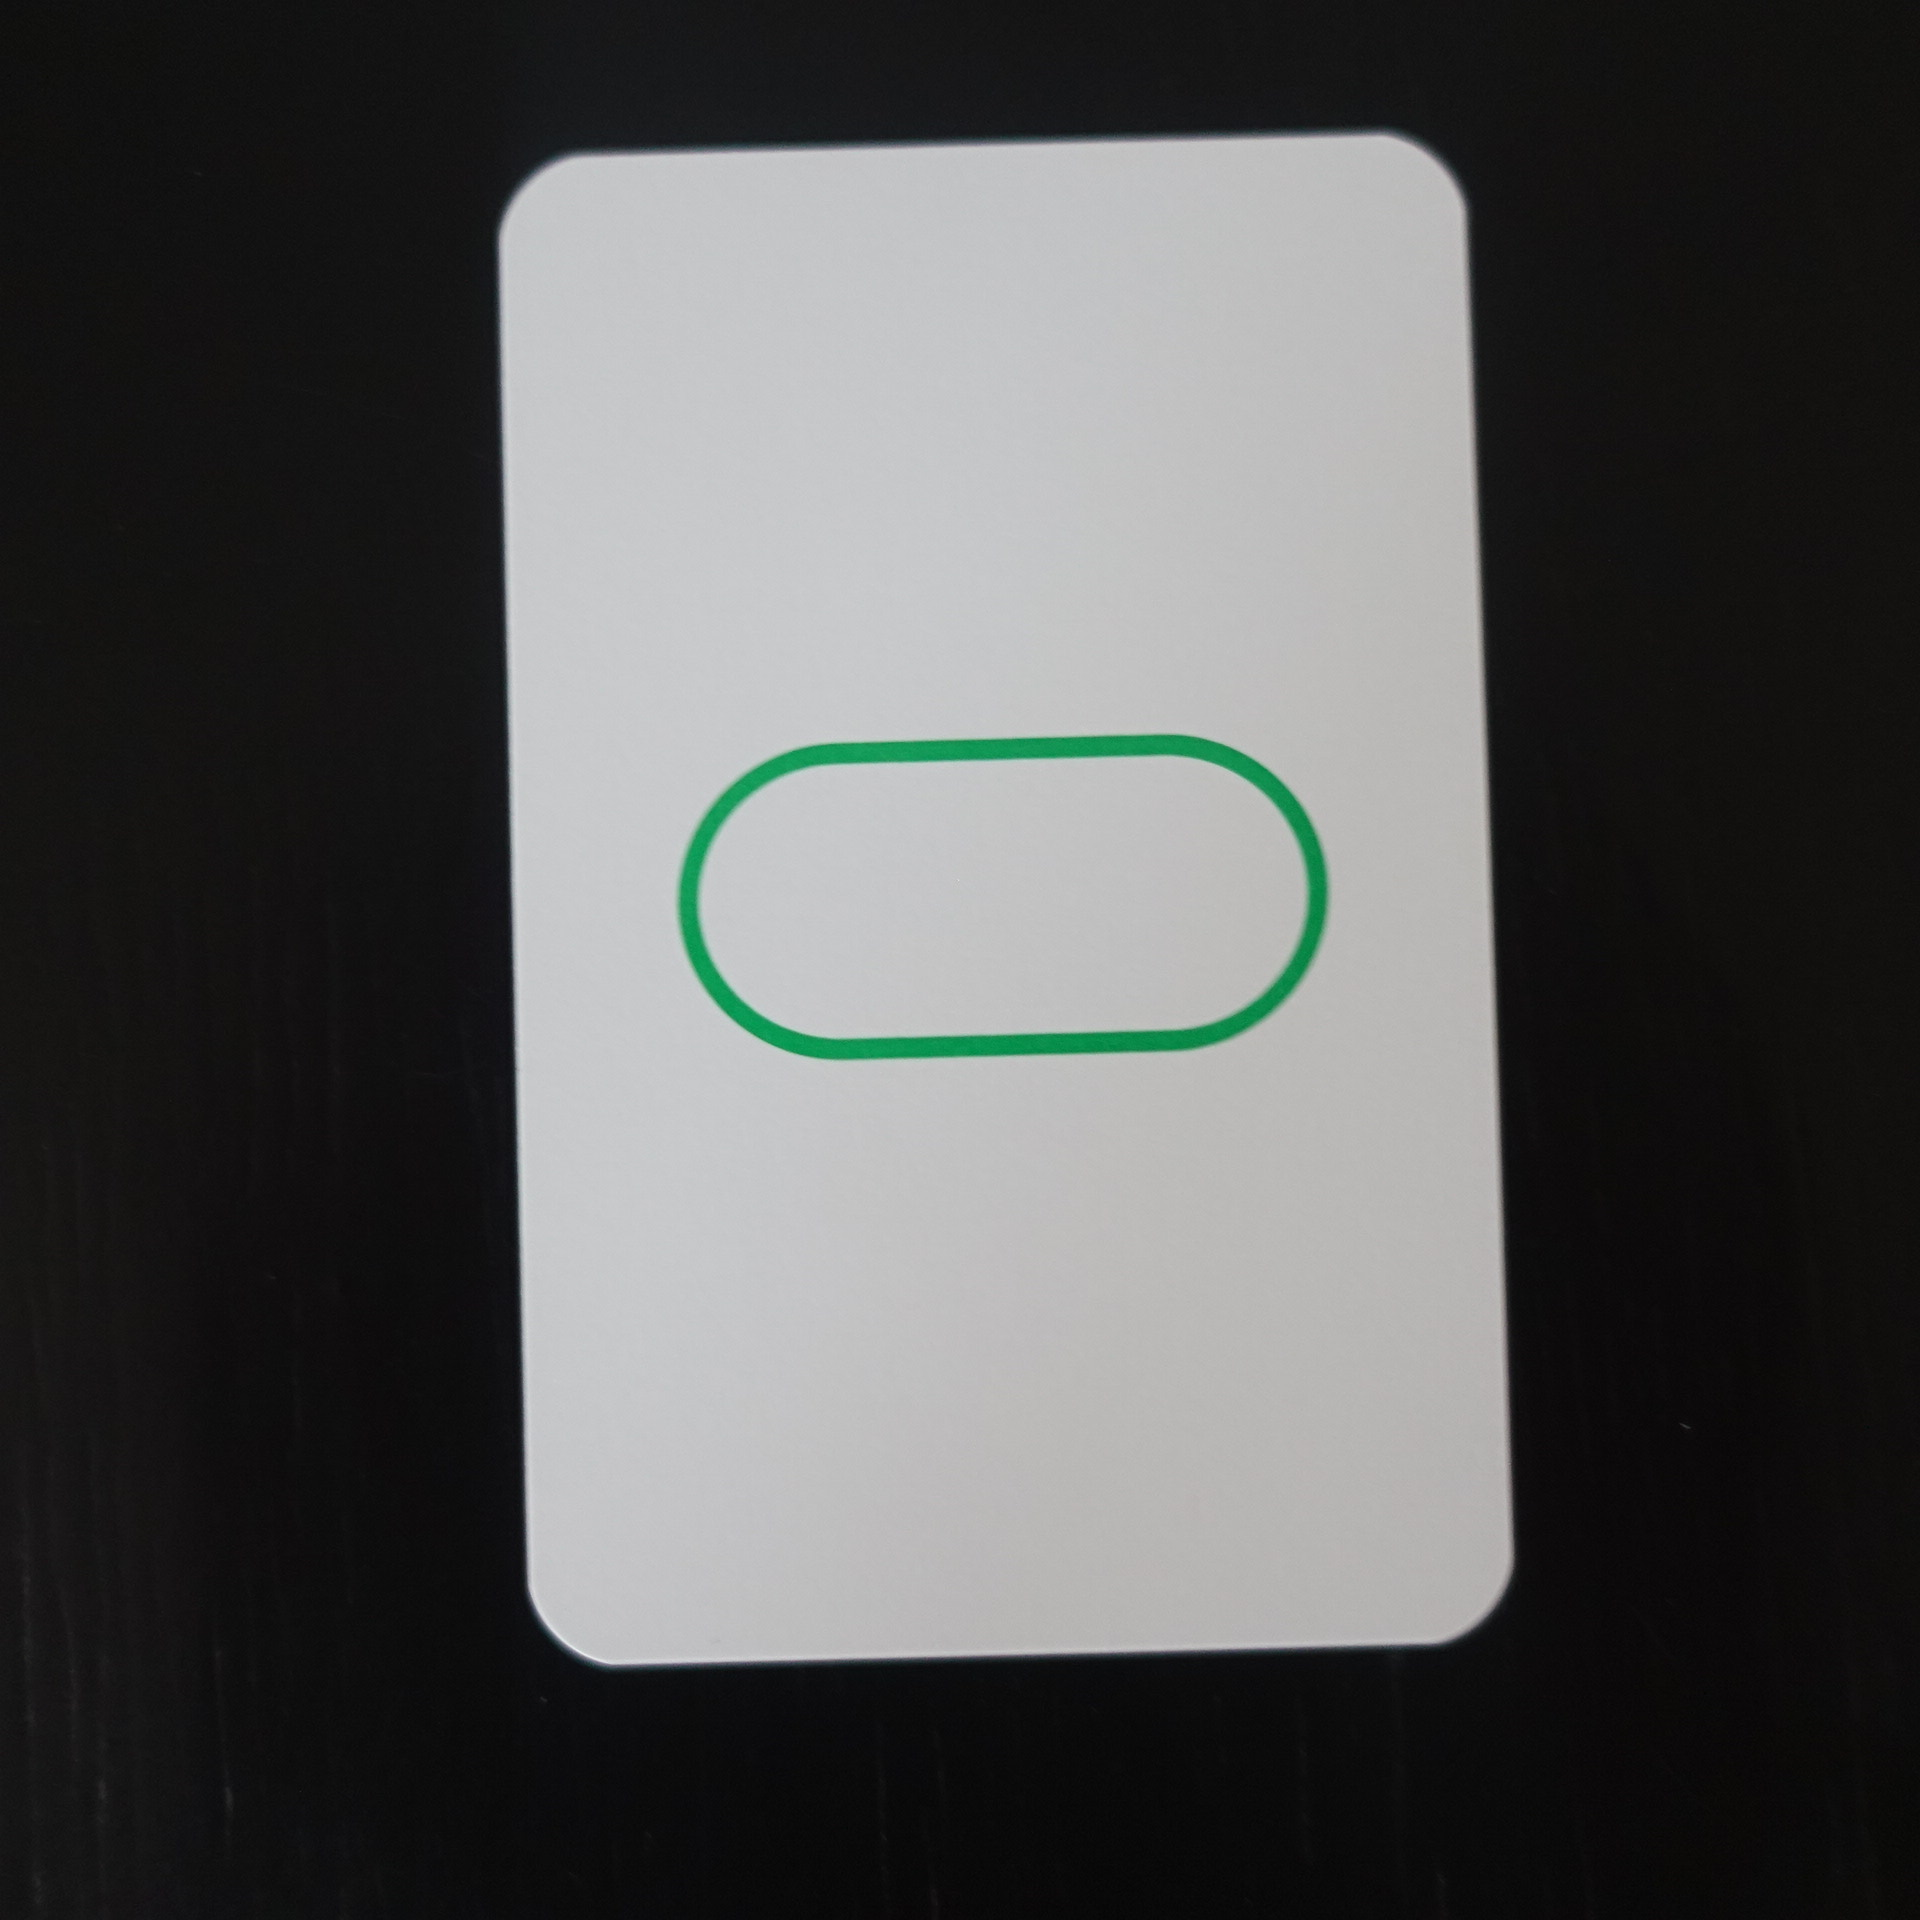c-2-f-d-r: (452, 107, 1547, 1700)
